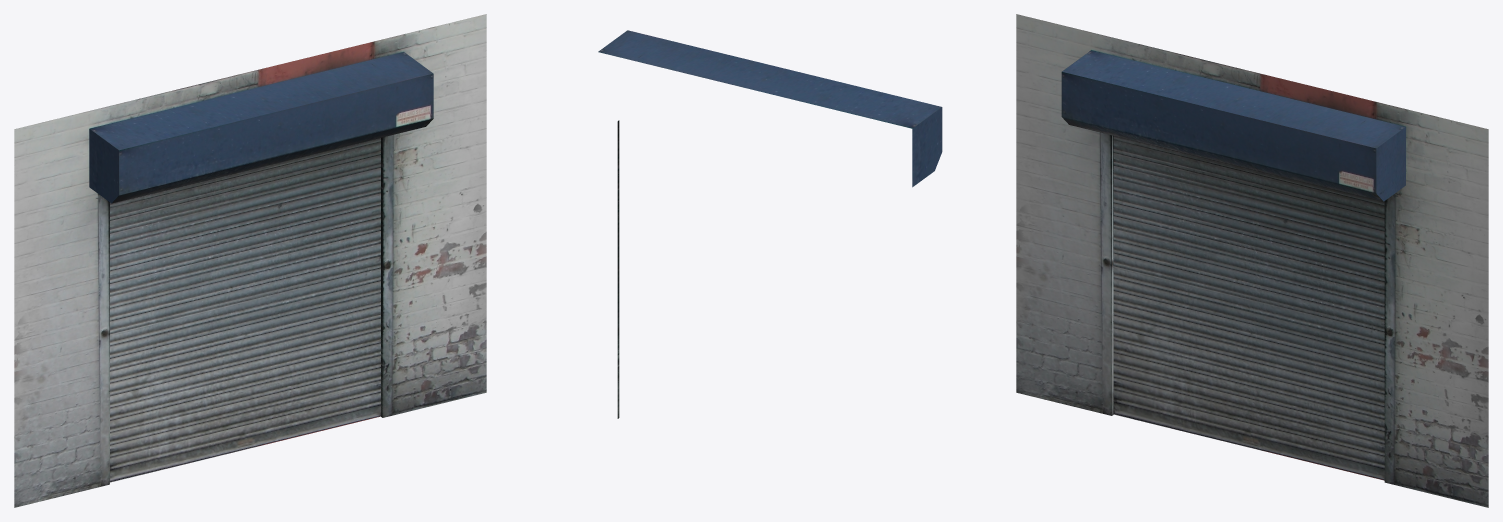
The model's file is 04_wall_shutter2.glb.
3 views of the same model, side by side, from view 1: azimuth 30°, elevation 25°; view 2: azimuth 150°, elevation 25°; view 3: azimuth 330°, elevation 25° (orthographic).
Parts seen in each view (by area): view 1: wall_shutter2; view 2: wall_shutter2; view 3: wall_shutter2.
Boxes of the visible parts, x1,y1,x2,y2 form: wall_shutter2: (14, 14, 486, 507); wall_shutter2: (598, 30, 942, 418); wall_shutter2: (1016, 14, 1488, 507).
Bounding box in the file's own units: 5 × 3.83 × 0.5744.
Materials: 1 (1 with a texture image).
